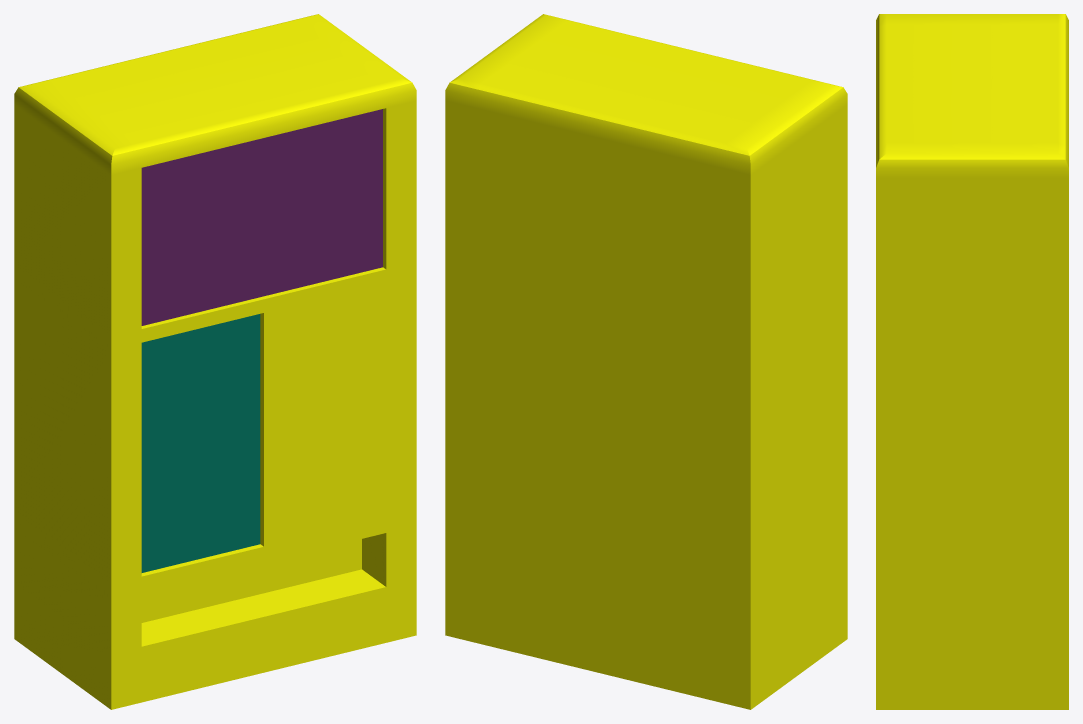
Rendered from SM_distributeur.fbx.
3 renders of one model, left to right at view 1: azimuth 30°, elevation 25°; view 2: azimuth 150°, elevation 25°; view 3: azimuth 270°, elevation 25°, orthographic.
Visible parts, largest first — view 1: SM_distributeur; view 2: SM_distributeur; view 3: SM_distributeur.
Boxes of the visible parts, x1,y1,x2,y2 form: SM_distributeur: [14, 14, 416, 709]; SM_distributeur: [445, 14, 847, 709]; SM_distributeur: [876, 14, 1068, 709].
Bounding box in the file's own units: 0.922 × 1.6 × 0.5067.
